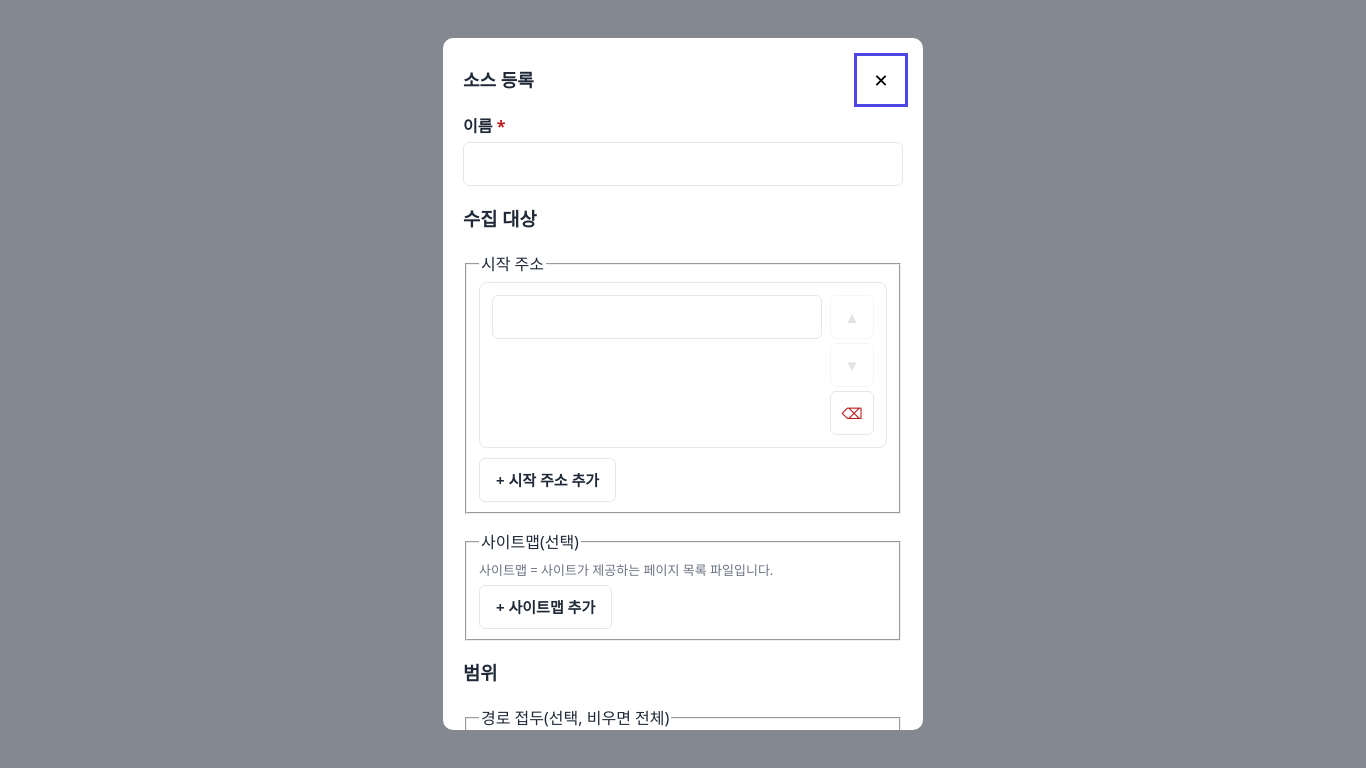
KbSourceEditModal › KB_HOST_NOT_ALLOWED(DNS_FAILED) 오류는 시작 주소 필드 아래에 해당 문구를 표시한다
Type "인사규정 게시판" into the field labelled "이름 *". click: [683, 164]
box: [463,142,903,186]
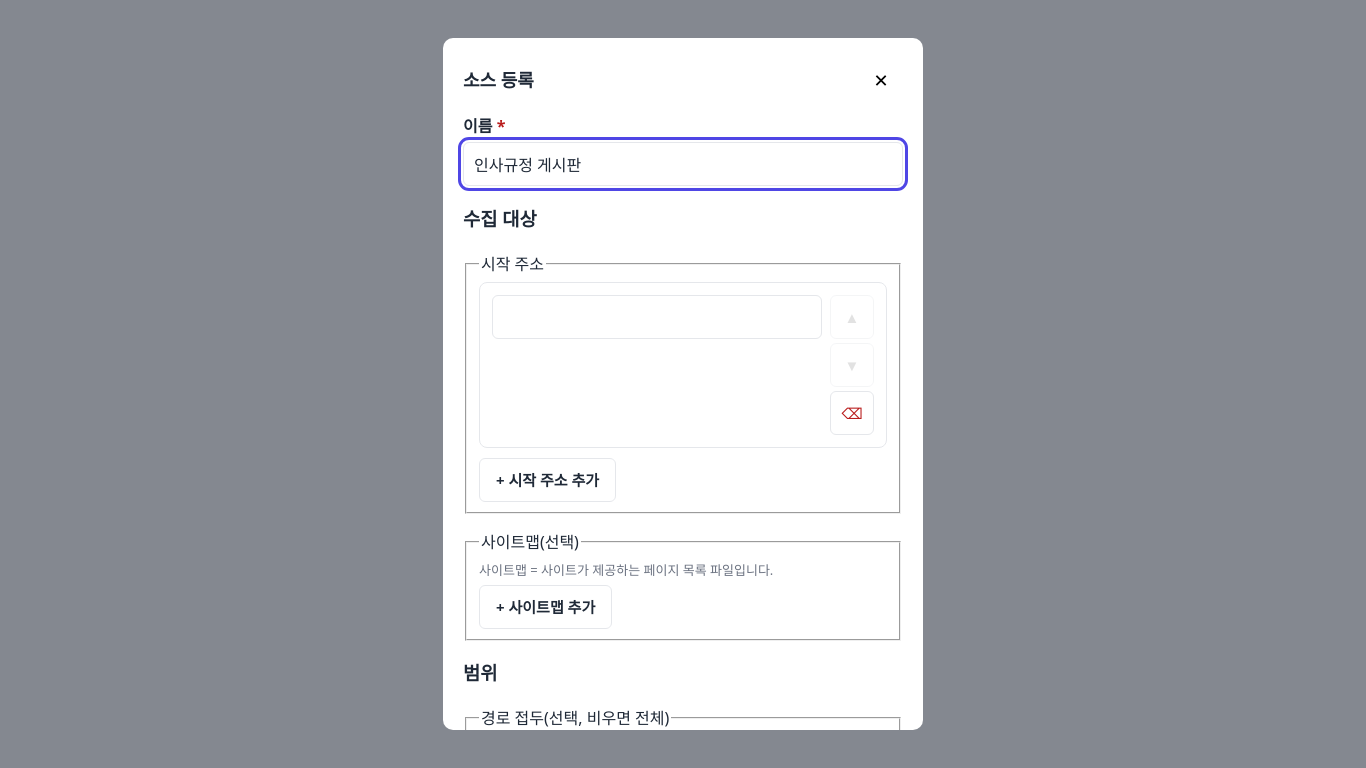
Type "https://intra.example.local/hr/" into the field named "번째 시작 주소". click: [657, 316]
box: [492,294,822,338]
(page scrolled)
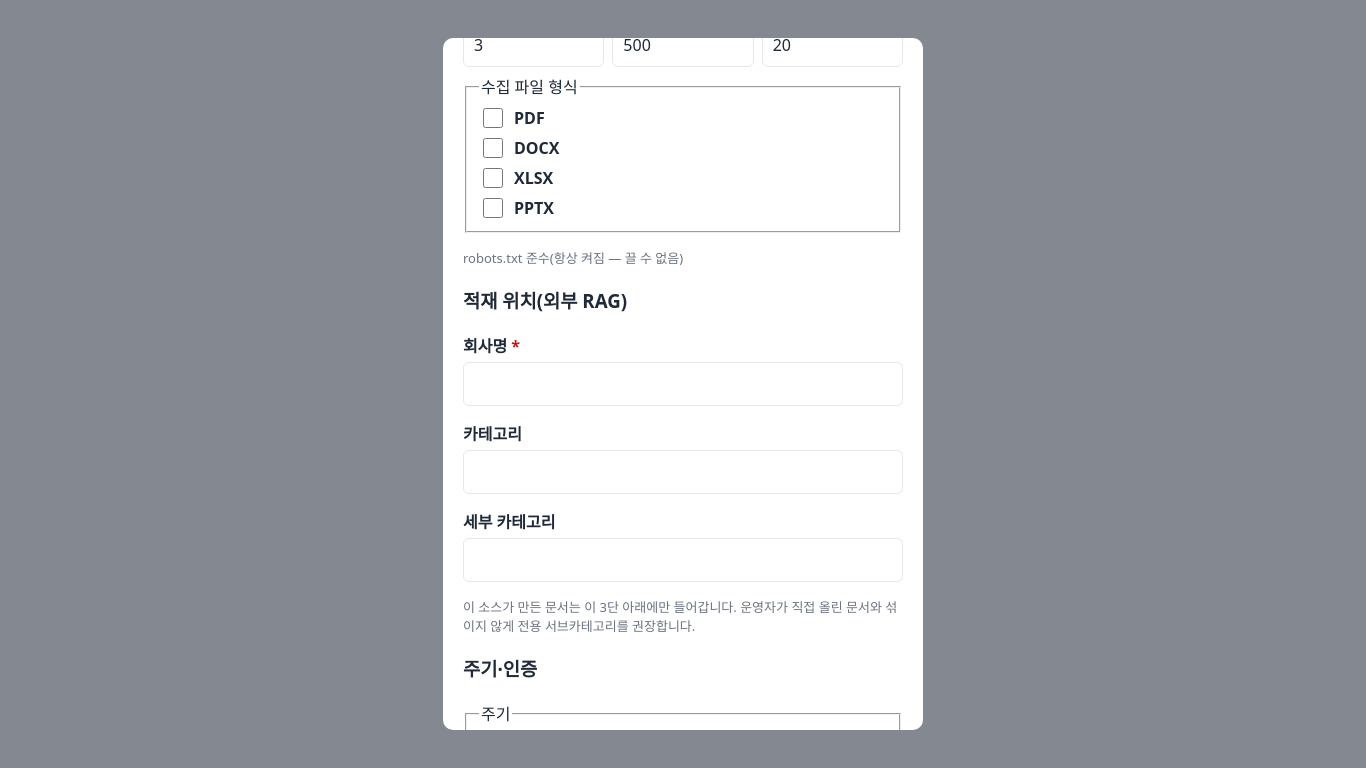
Type "예시공사" into the field labelled "회사명 *". click: [683, 384]
box: [463,362,903,406]
Type "인사" into the field labelled "카테고리". click: [683, 472]
box: [463,450,903,494]
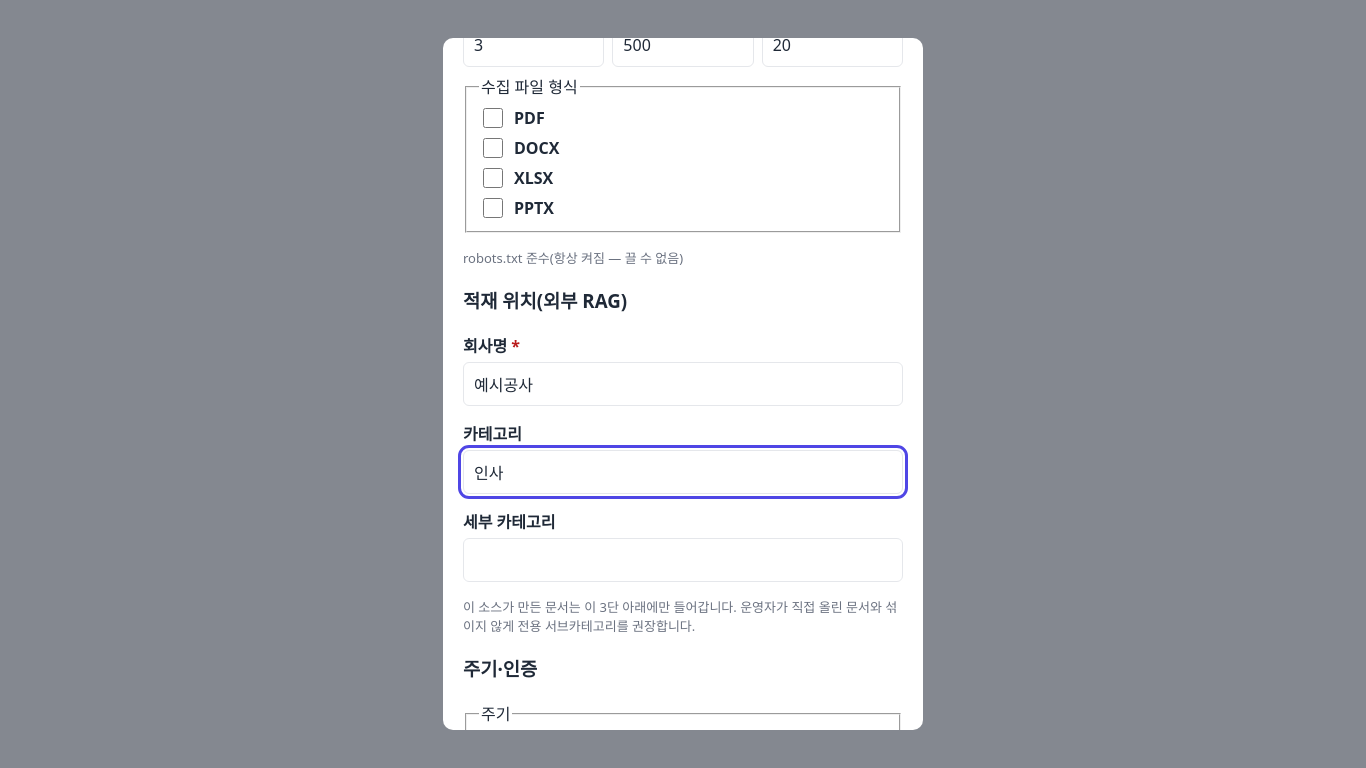
Type "크롤_인사규정" into the field labelled "세부 카테고리". click: [683, 560]
box: [463,538,903,582]
(page scrolled)
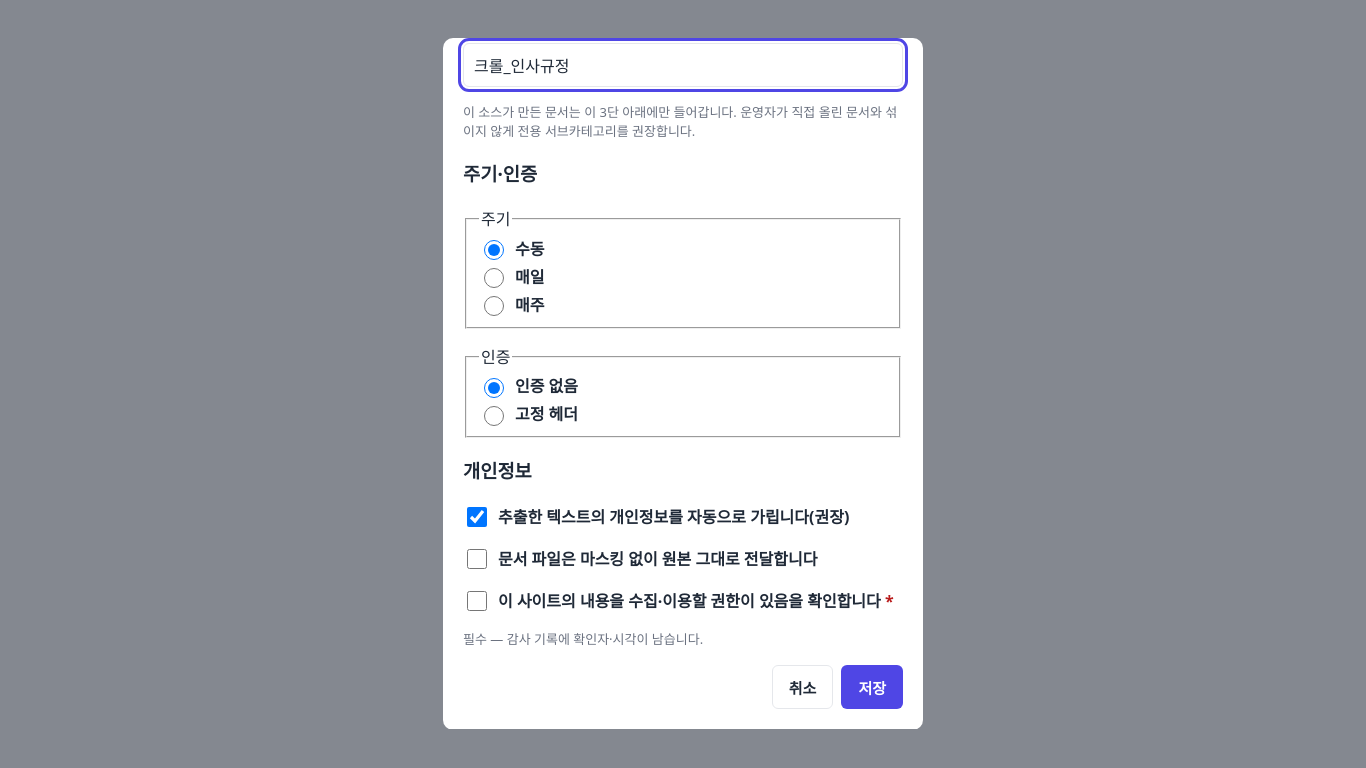
Click the checkbox labelled "이 사이트의 내용을 수집·이용할 권한이 있음을 확인합니다 *". click: [477, 601]
box: [467,591,487,611]
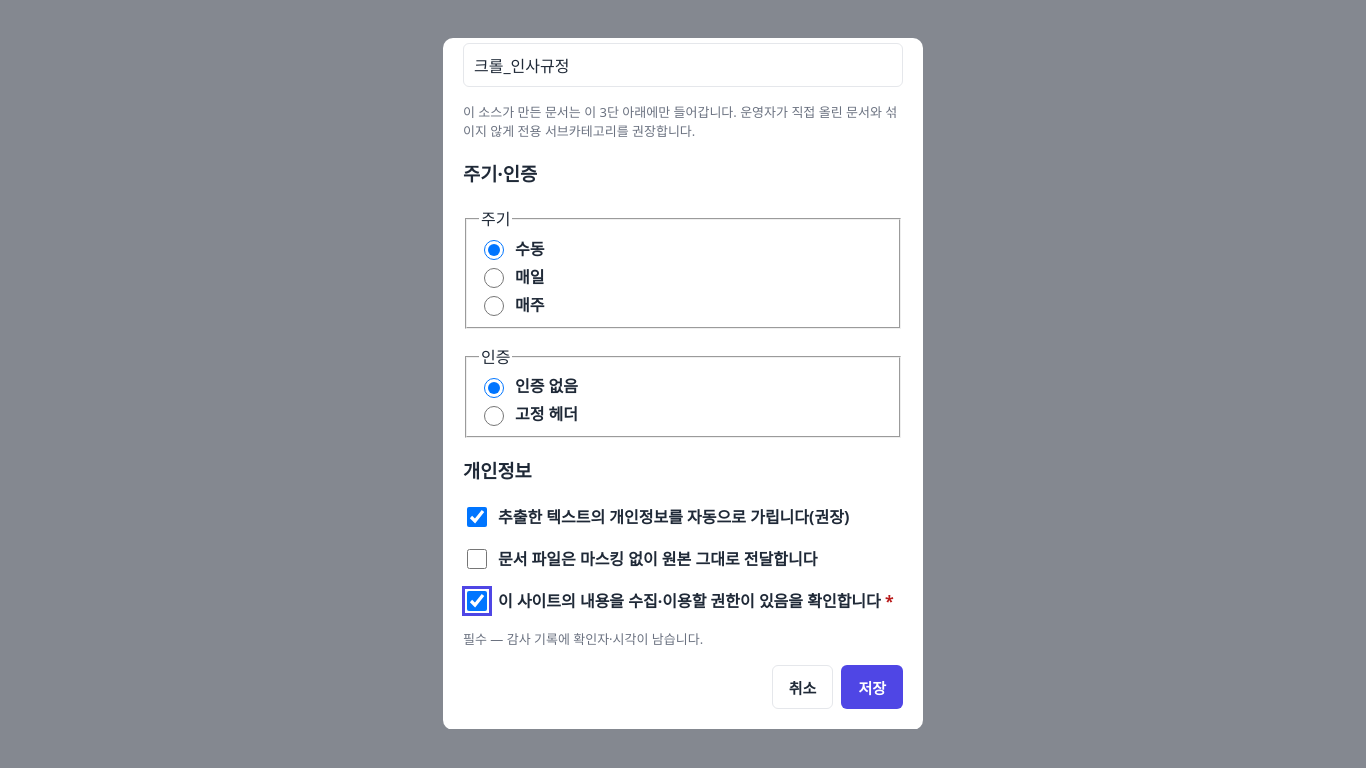
Click the button "저장". click: [872, 687]
box: [841,665,903,709]
(page scrolled)
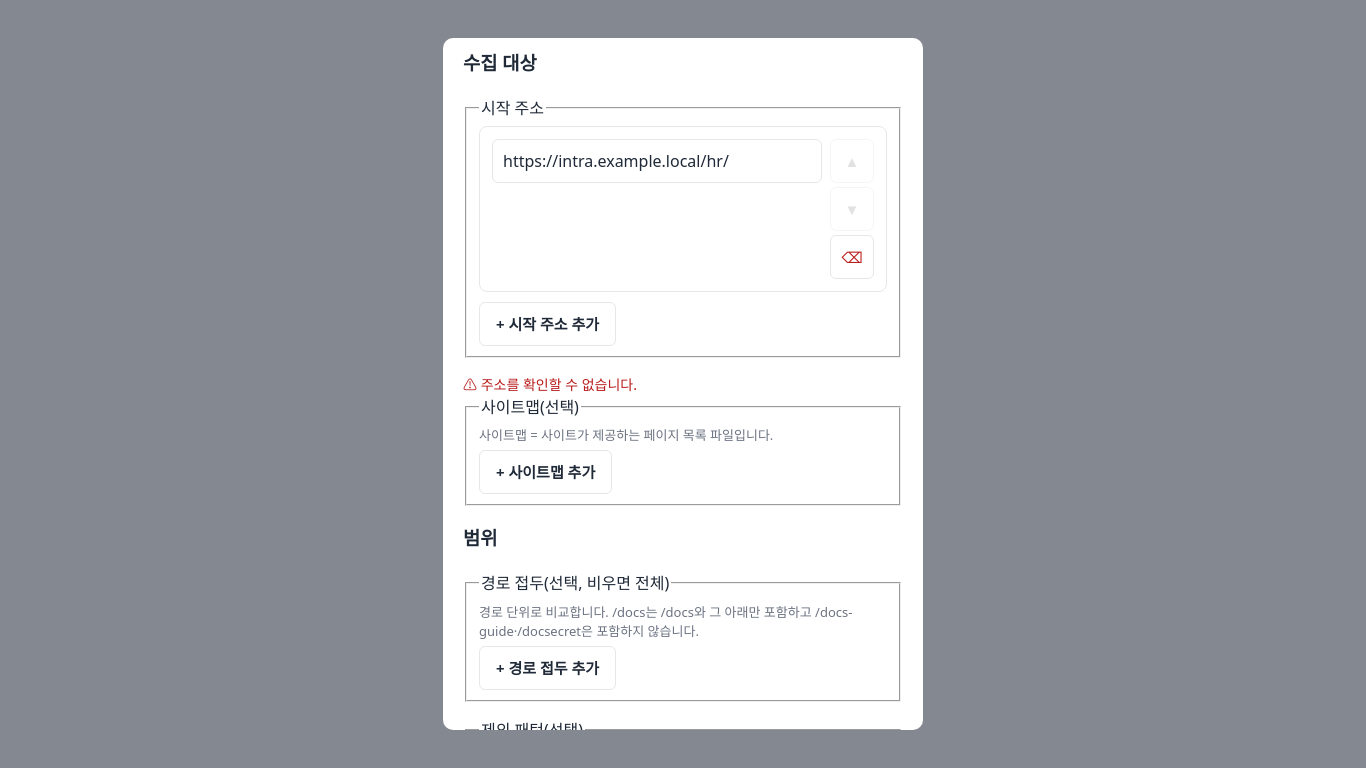
Expected: the text "주소를 확인할 수 없습니다." is shown, [481,374,637,394]
